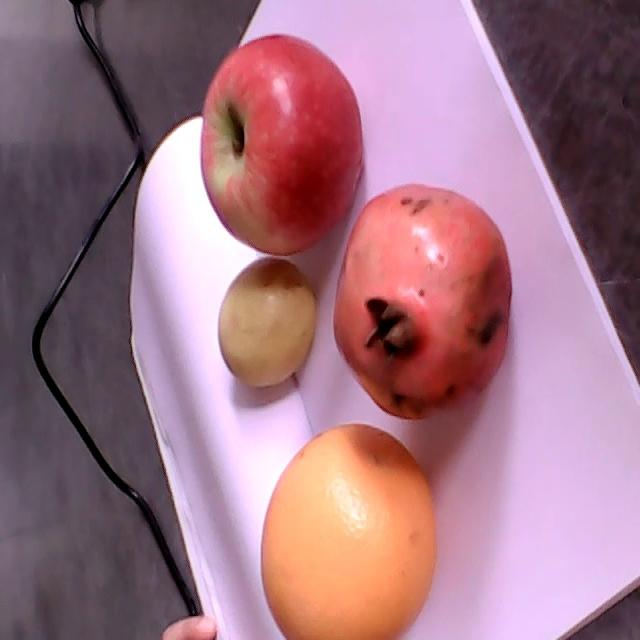apple: (200, 32, 365, 256)
lemon: (215, 257, 316, 390)
orange: (260, 426, 439, 639)
pomegranate: (332, 188, 516, 424)
